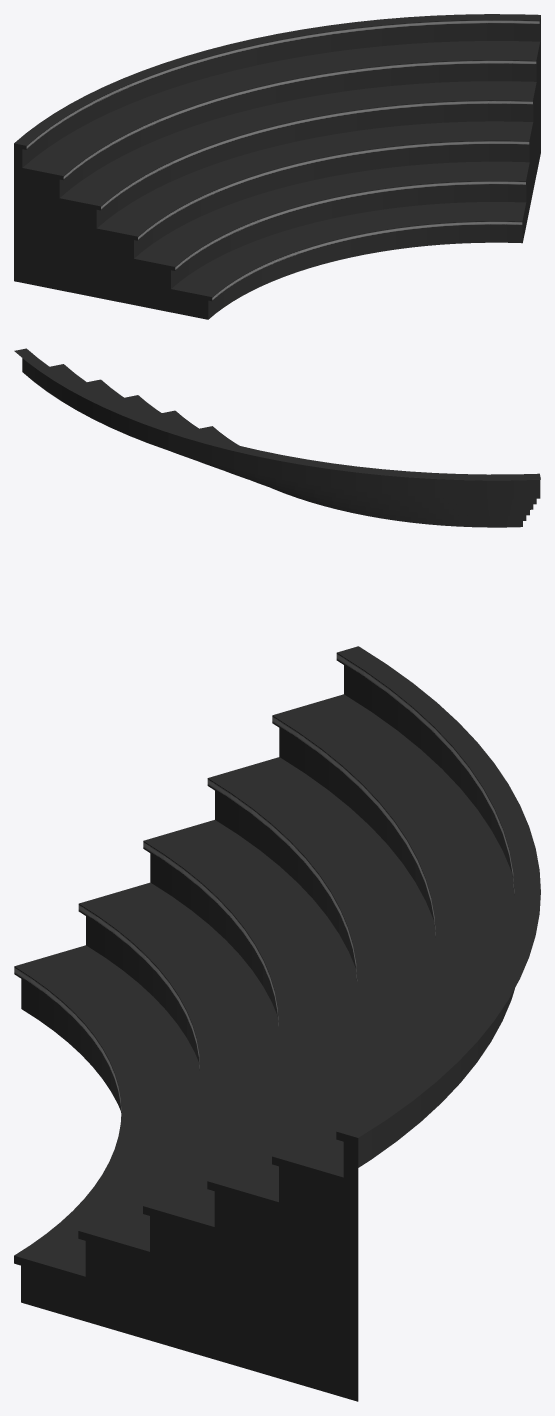
Rendered from Floor02_5.FBX.
3 views of the same model, one above another, from view 1: azimuth 30°, elevation 25°; view 2: azimuth 150°, elevation 25°; view 3: azimuth 270°, elevation 25° (orthographic). The views are drawn at different scales.
Visible parts, largest first — view 1: Floor02_5; view 2: Floor02_5; view 3: Floor02_5.
Boxes of the visible parts, x1=… form: Floor02_5: x1=14, y1=14, x2=540, y2=319; Floor02_5: x1=14, y1=348, x2=540, y2=527; Floor02_5: x1=14, y1=646, x2=540, y2=1401.
Size of the model in its own units: 3999 by 1000 by 1811.
